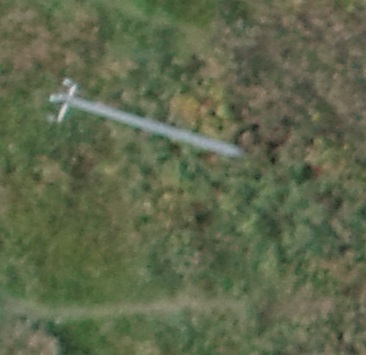opora: (46, 77, 245, 157)
